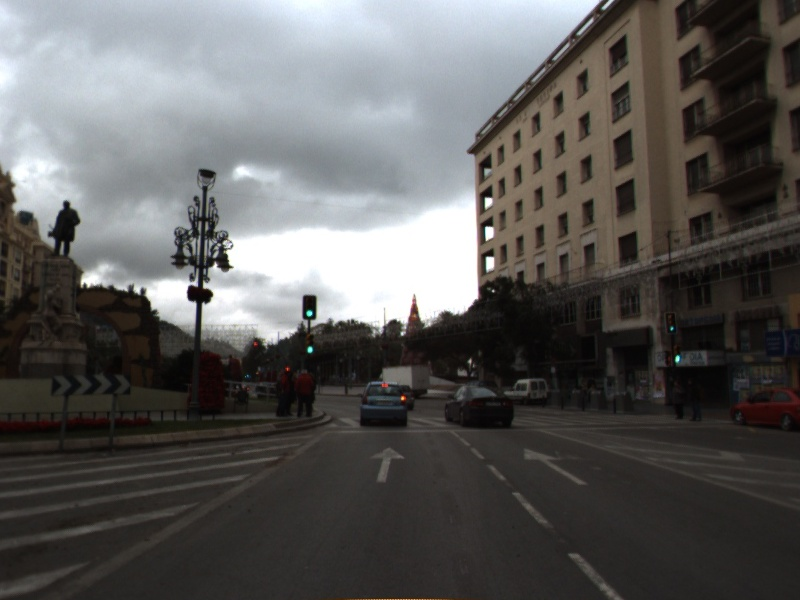STRAIGHT: (521, 446, 591, 487), (367, 444, 408, 485)
